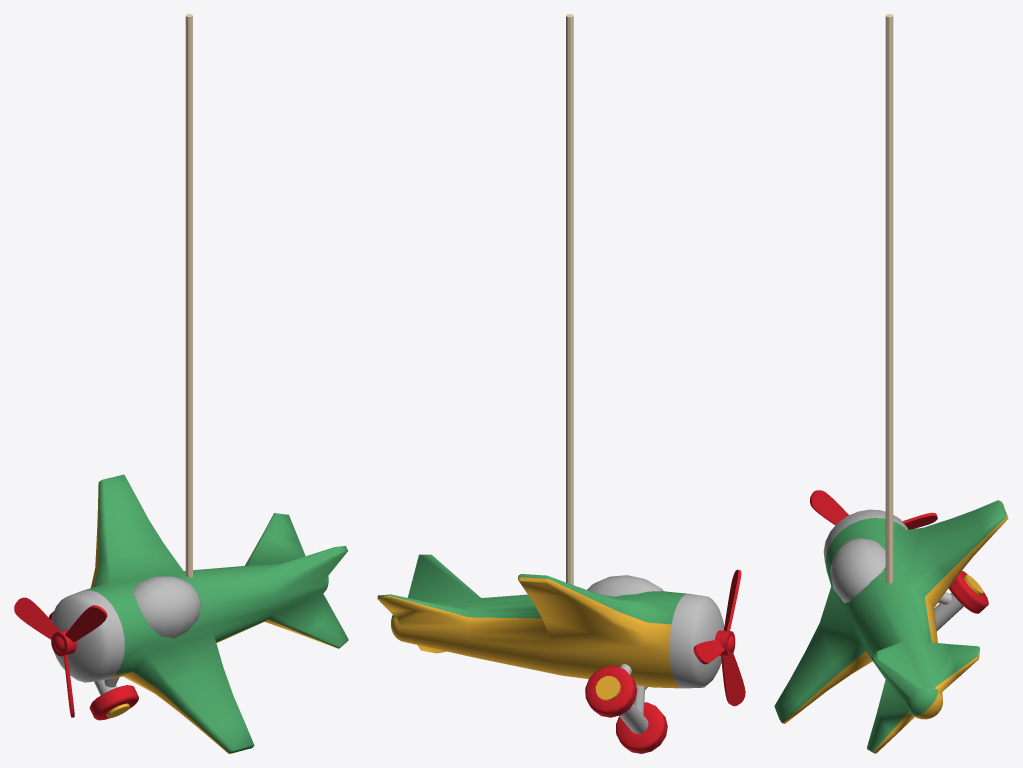
The model's file is Aircraft_Small_00.FBX.
The picture shows the model from 3 angles, left to right: view 1: azimuth 30°, elevation 25°; view 2: azimuth 150°, elevation 25°; view 3: azimuth 270°, elevation 25°; orthographic projection. The views are drawn at different scales.
Visible parts, largest first — view 1: Aircraft_Small_00; view 2: Aircraft_Small_00; view 3: Aircraft_Small_00.
Part boxes in pixels (bbox=[...]): Aircraft_Small_00: bbox=[14, 14, 348, 753]; Aircraft_Small_00: bbox=[377, 14, 745, 753]; Aircraft_Small_00: bbox=[774, 14, 1008, 753].
Size of the model in its own units: 6.92 by 15 by 4.52.
